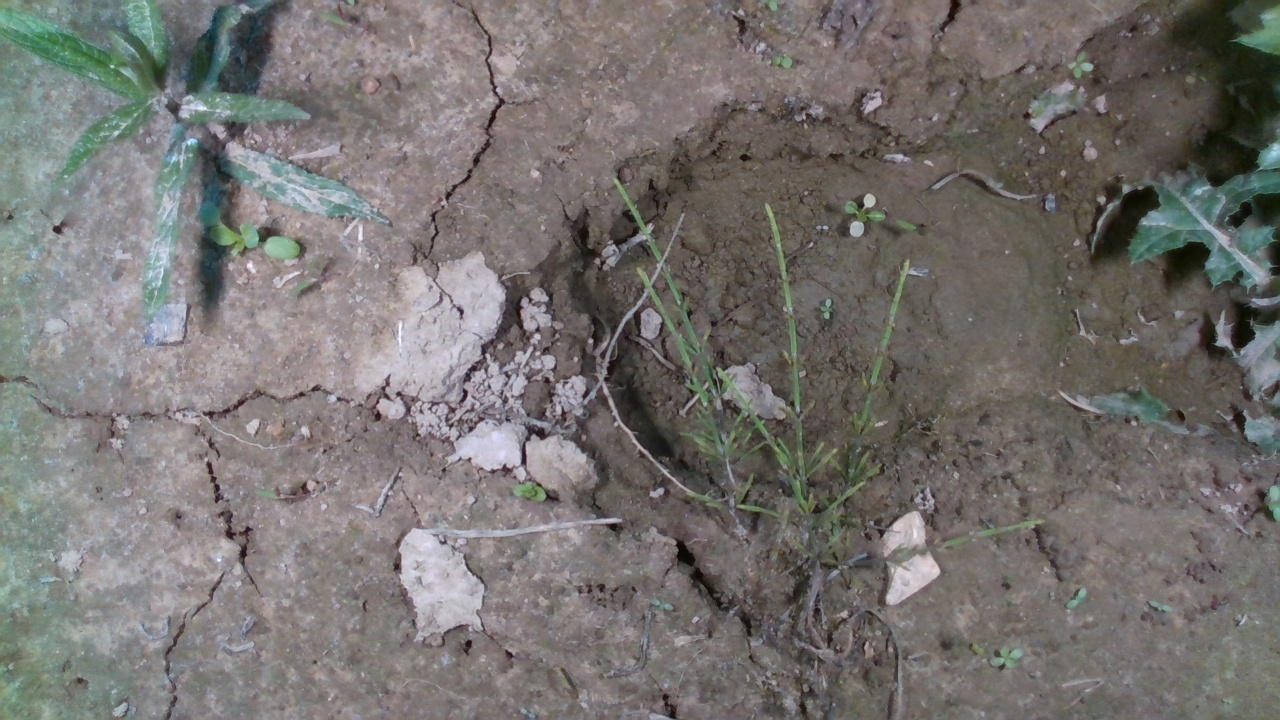weed: (204, 223, 303, 261), (842, 195, 884, 238), (509, 480, 550, 502)
